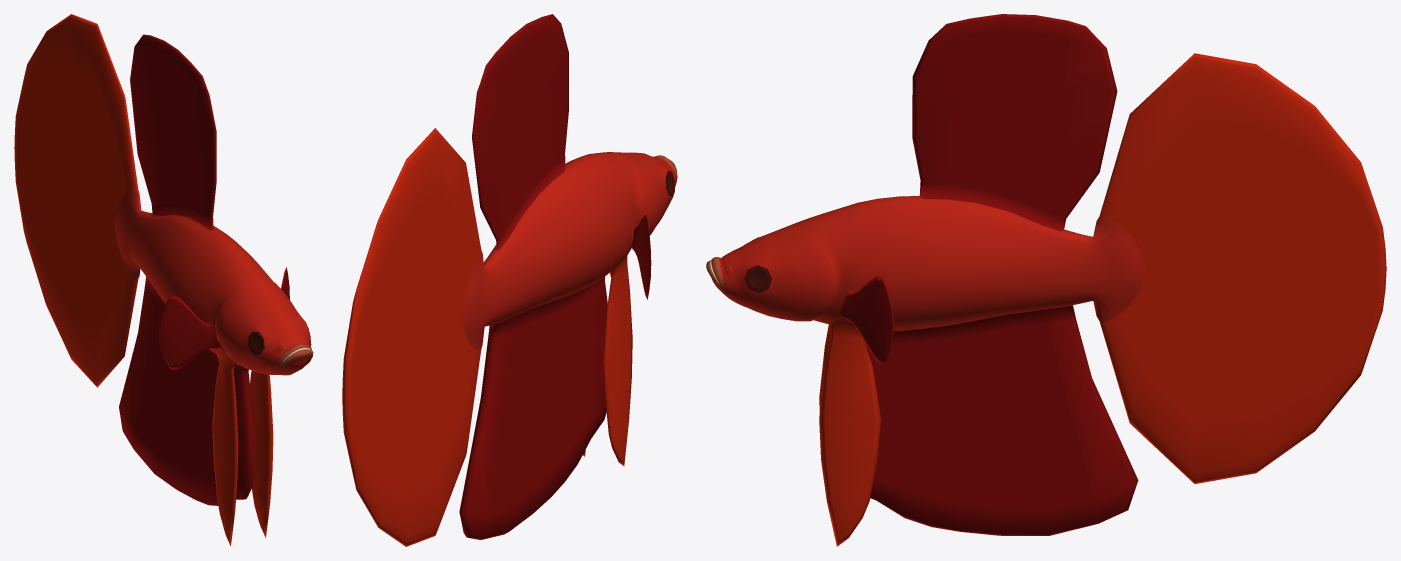
The model's file is betta_fish_betta_fish.obj.
3 renders of one model, left to right at view 1: azimuth 30°, elevation 25°; view 2: azimuth 150°, elevation 25°; view 3: azimuth 270°, elevation 25°, orthographic. The views are drawn at different scales.
Visible parts, largest first — view 1: betta_fish; view 2: betta_fish; view 3: betta_fish.
Boxes of the visible parts, left/top/right/bottom form: betta_fish: left=14, top=14, right=313, bottom=546; betta_fish: left=342, top=14, right=677, bottom=546; betta_fish: left=706, top=14, right=1386, bottom=546.
Size of the model in its own units: 0.0328 by 0.1057 by 0.1247.
